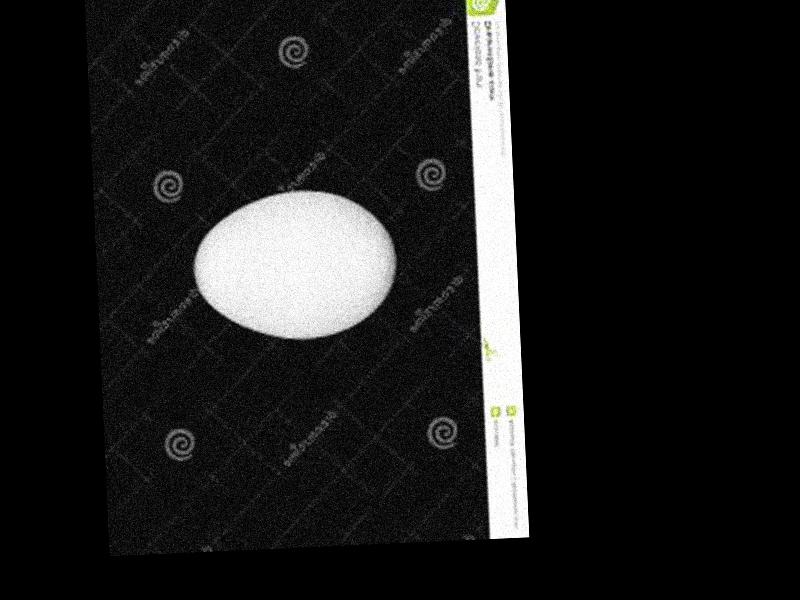Eggs: (192, 188, 398, 347)
